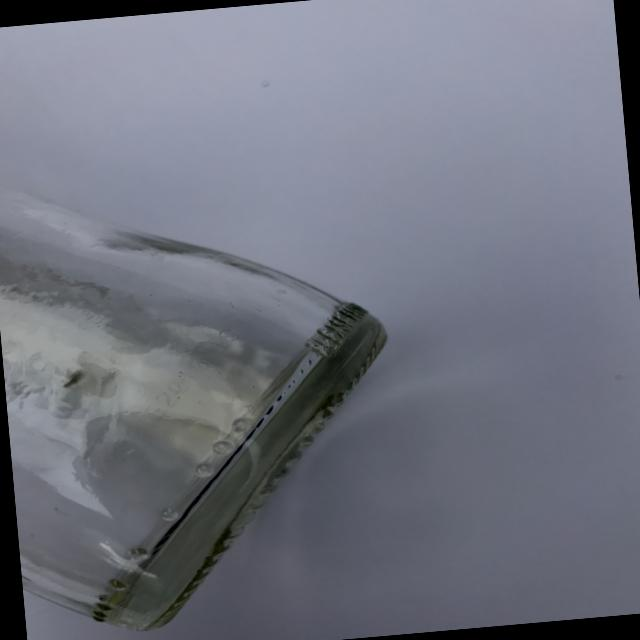Glass: (0, 133, 427, 640)
